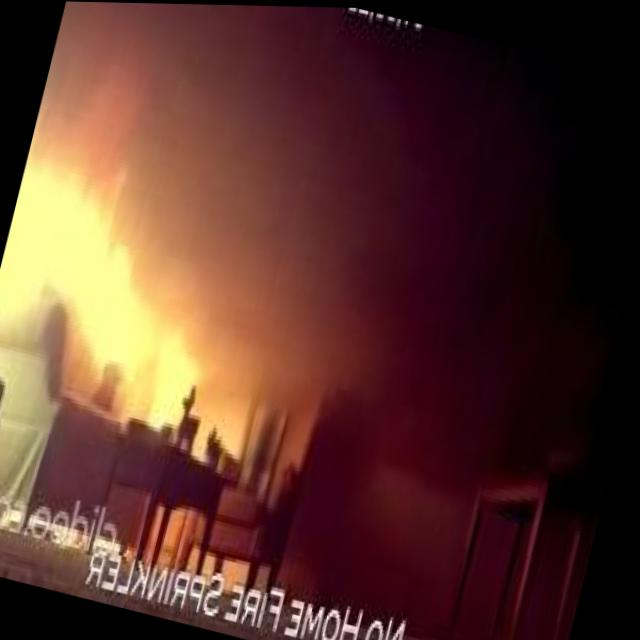fire: (0, 153, 234, 418)
